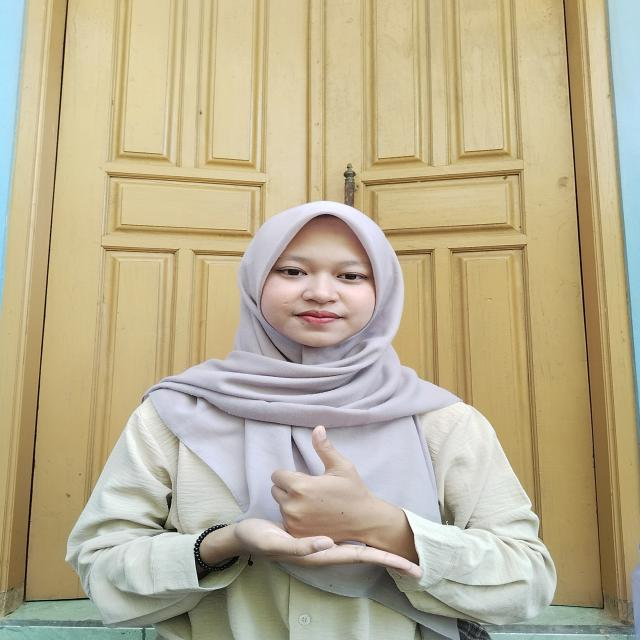cantik: (182, 425, 424, 585)
